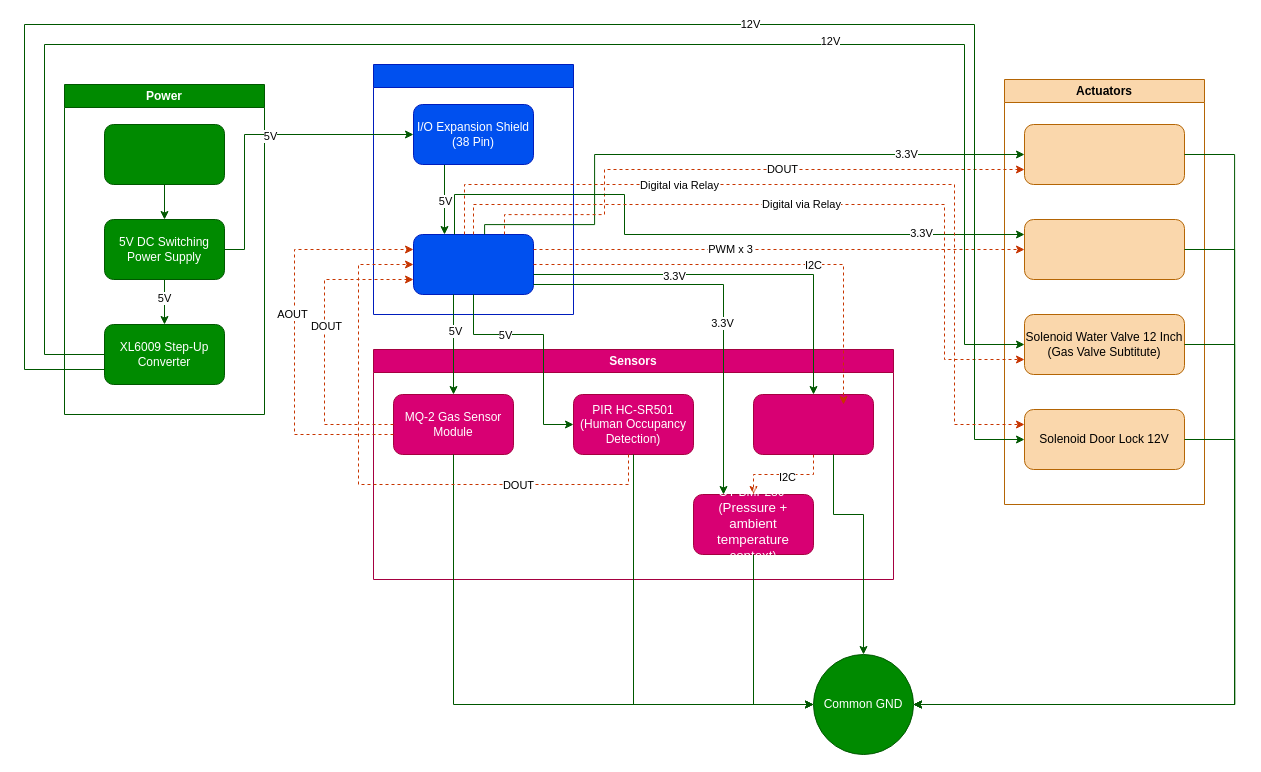
The diagram is 1261 pixels wide and 772 high, and some of its shapes have lost their labels. The shapes that lost their labels are listed below. From the top down, each one's box as (x1, y1, x2, y2) in pixels, then its label:
(104, 124, 224, 184): 110-220V AC
(1024, 124, 1184, 184): KY-012 Active Buzzer
(372, 64, 574, 314): Controller
(412, 234, 534, 294): ESP32 DevKit (ESP32-WROOM-32)
(1024, 218, 1184, 280): RGB LED Module
(752, 394, 874, 454): GY-LSM6DS3 (Seismic Vibration Sensing)
